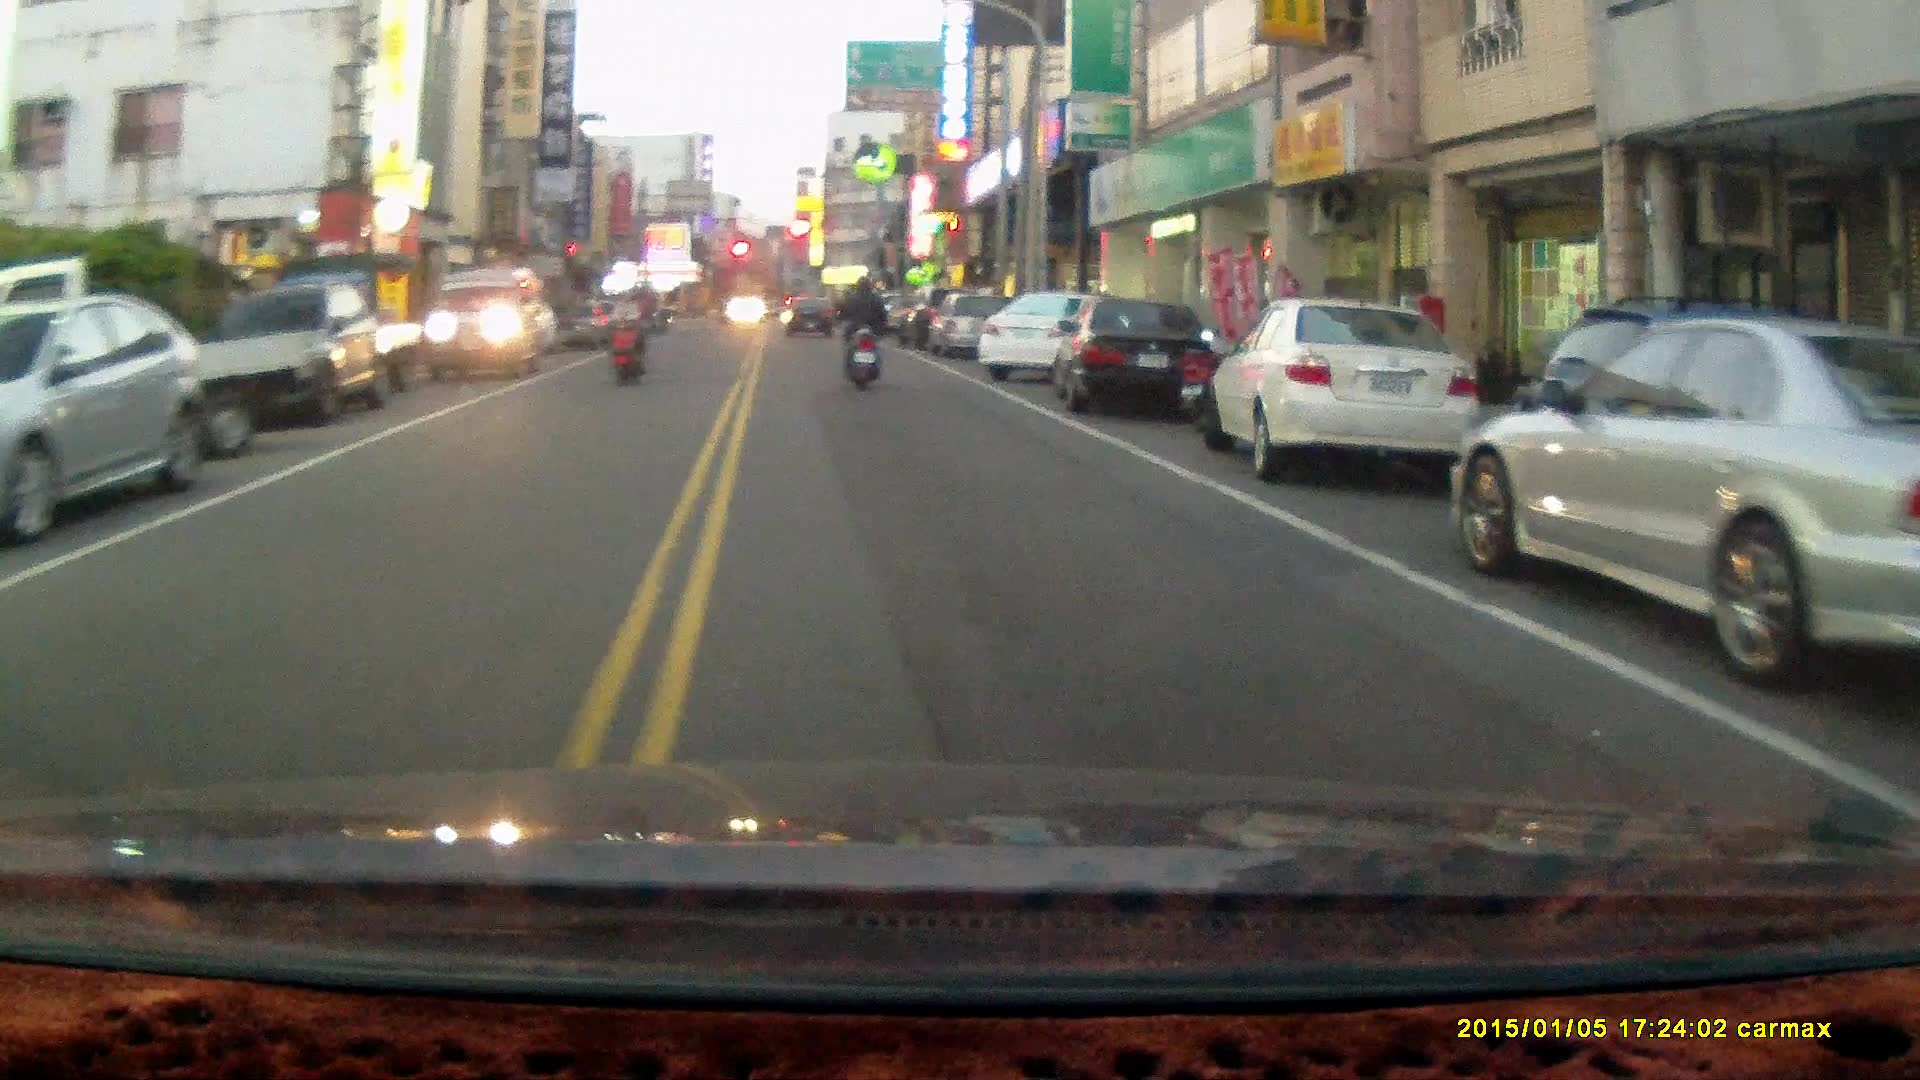rider: (838, 277, 885, 392), (611, 284, 652, 391)
vehicle: (1456, 314, 1920, 688), (1, 292, 204, 552), (1209, 299, 1491, 483), (206, 280, 383, 426), (1053, 297, 1219, 420), (976, 288, 1141, 384), (429, 264, 553, 384), (925, 291, 1028, 362)
